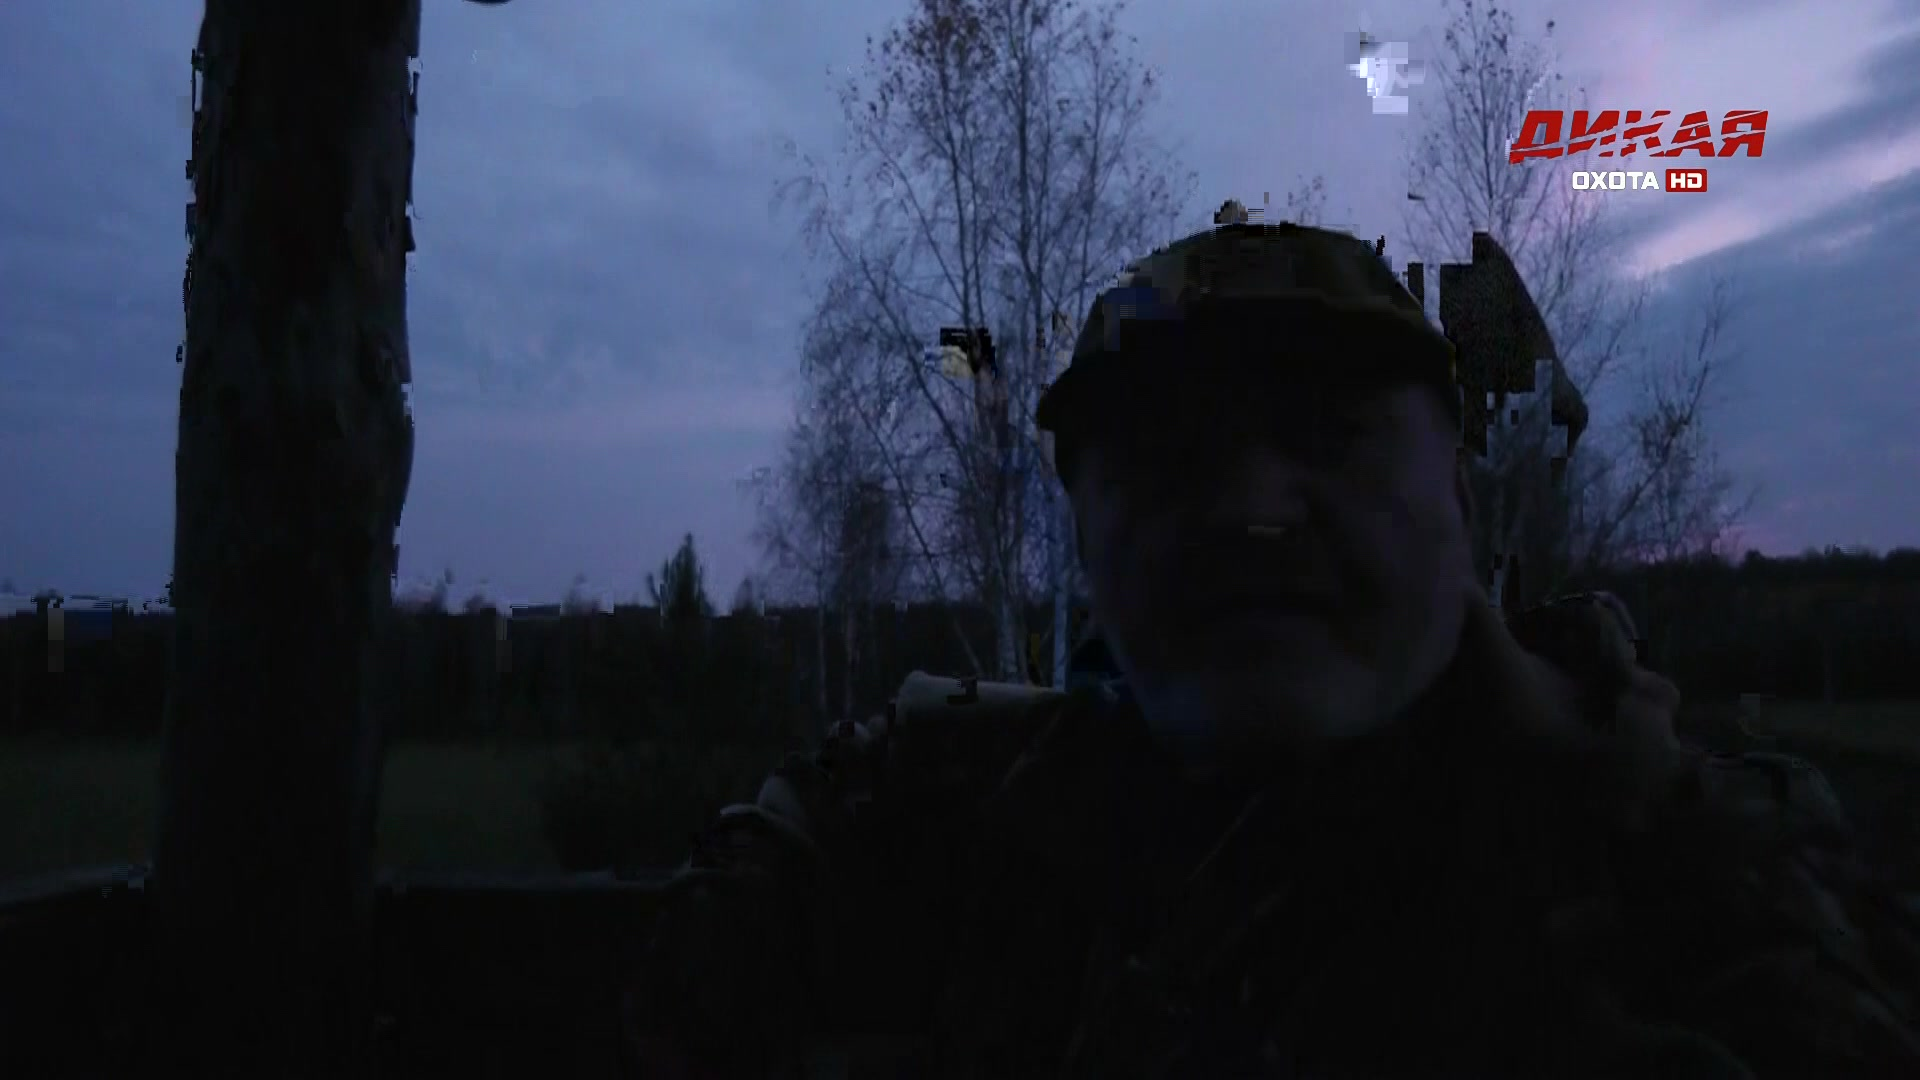Dikaya_Ohota_HD: (1506, 105, 1775, 196)
